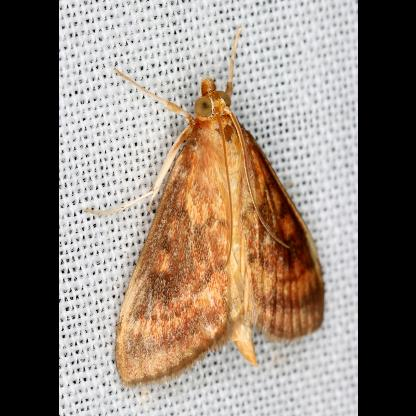Asian Corn Borer Moth: (82, 25, 330, 393)
